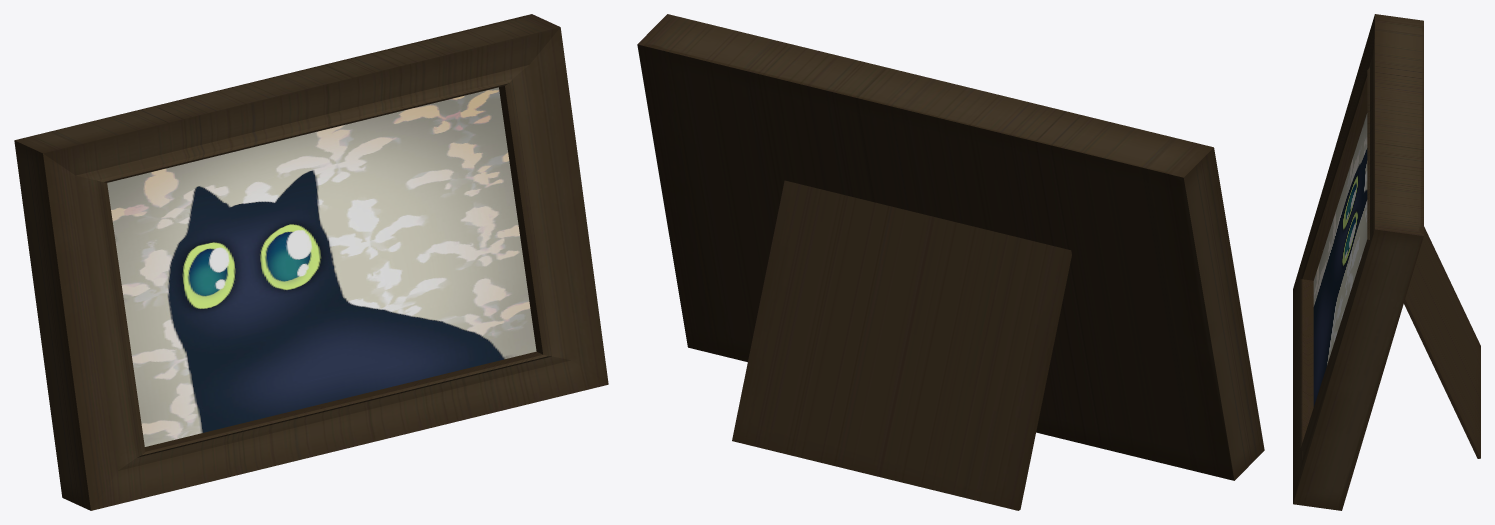
File: Picture_Frame_-_Cat.fbx
The picture shows the model from 3 angles, left to right: view 1: azimuth 30°, elevation 25°; view 2: azimuth 150°, elevation 25°; view 3: azimuth 270°, elevation 25°; orthographic projection. The views are drawn at different scales.
Visible parts, largest first — view 1: empty_4, empty_3; view 2: empty_3; view 3: empty_3, empty_4.
Boxes of the visible parts, x1,y1,x2,y2 form: empty_4: (107, 87, 536, 446); empty_3: (14, 14, 608, 510); empty_3: (637, 14, 1264, 510); empty_3: (1293, 14, 1480, 510); empty_4: (1313, 113, 1367, 406).
Bounding box in the file's own units: 217 × 132 × 80.1.
1 material, 1 textured.
